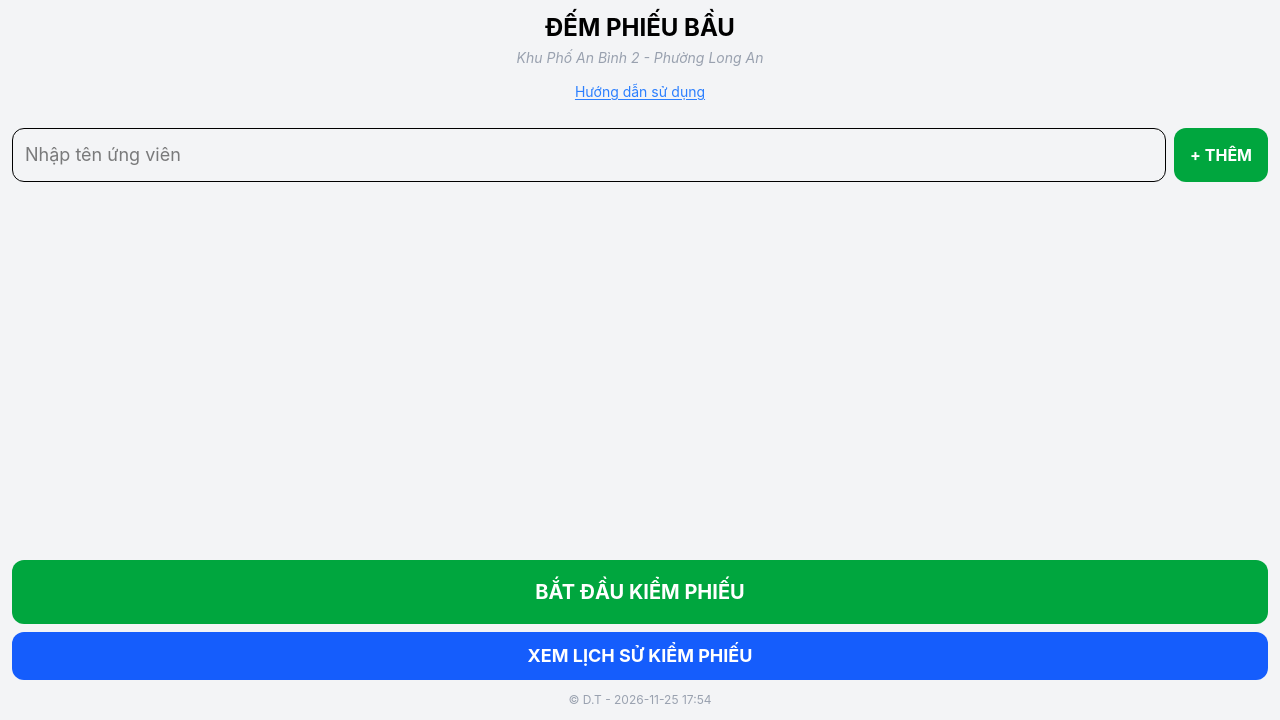
Test: Setup screen › adds a candidate by clicking + THÊM
The width and height of the screenshot is (1280, 720).
Type "Alice" into the field with placeholder "Nhập tên ứng viên" at coordinates (589, 155), box [12,128,1166,182]
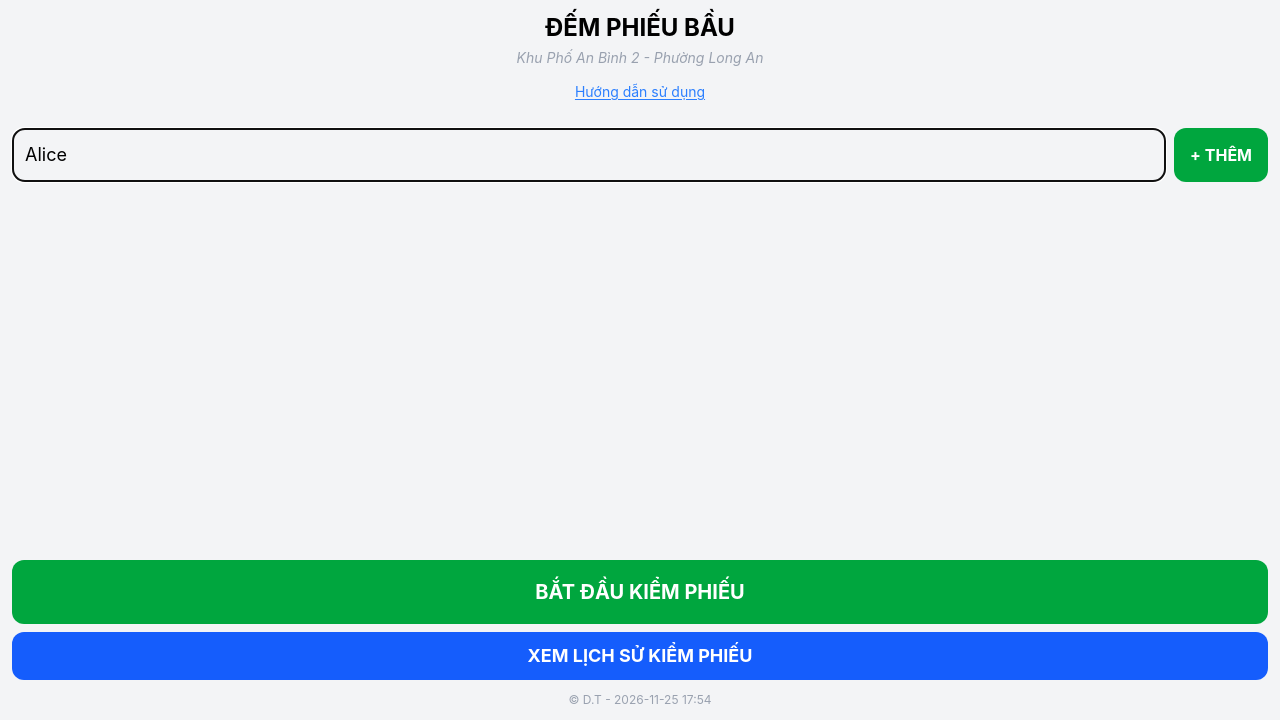
Click the button "+ THÊM" at coordinates (1221, 155), box [1174,128,1268,182]
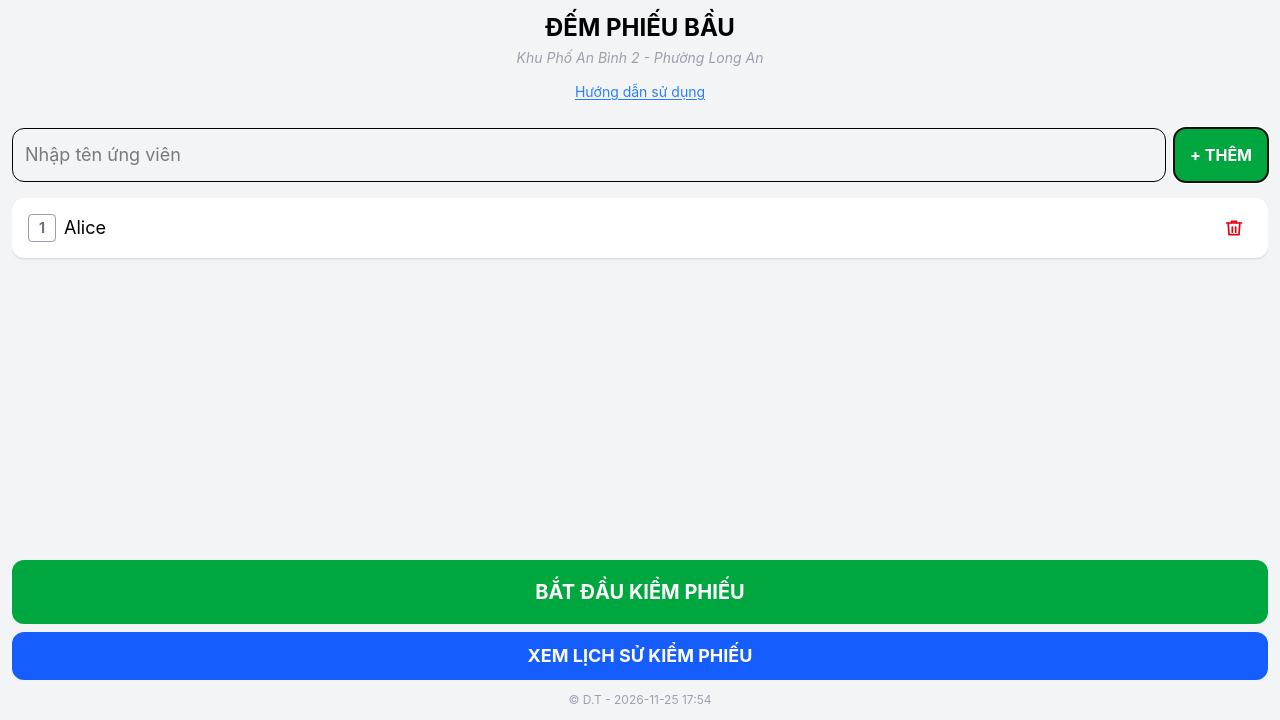
Expected: the text "Alice" is shown, [64,217,106,238]
